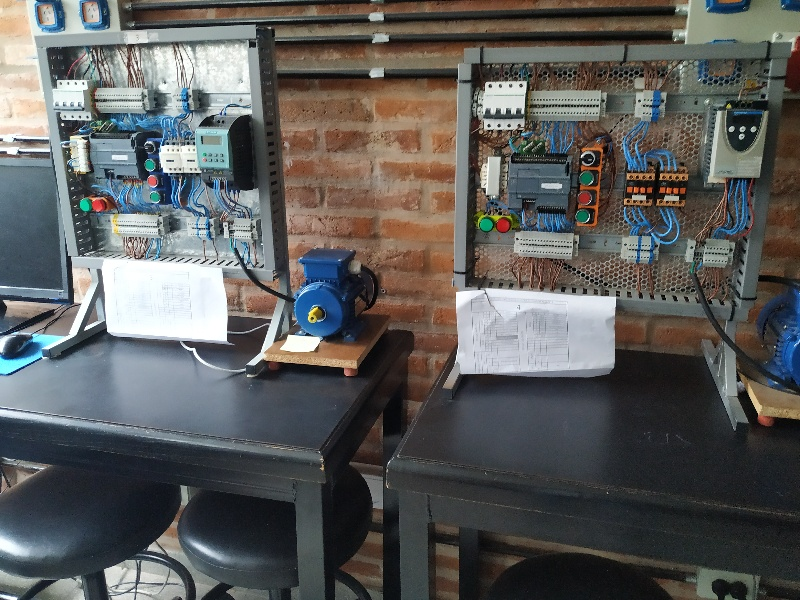Tablero 3: (41, 42, 271, 268)
Tablero 4: (467, 56, 769, 313)
